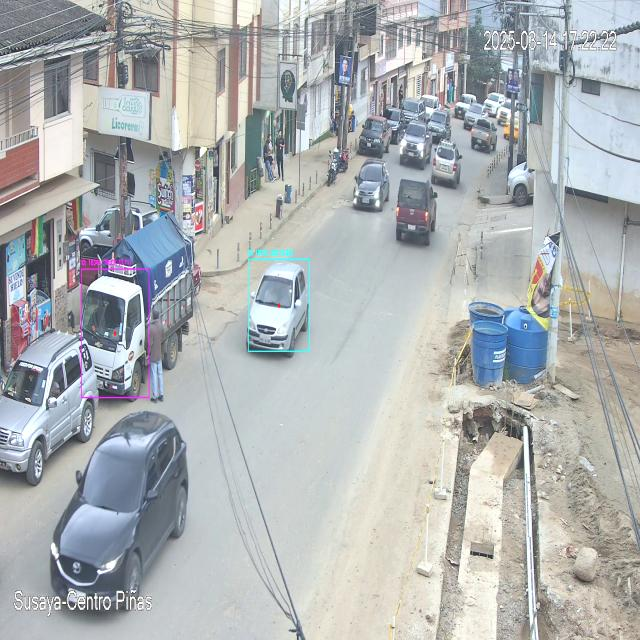CMT: (394, 180, 438, 251)
SUV: (51, 411, 189, 613), (0, 334, 97, 486)
TRUCK: (82, 216, 194, 392)
